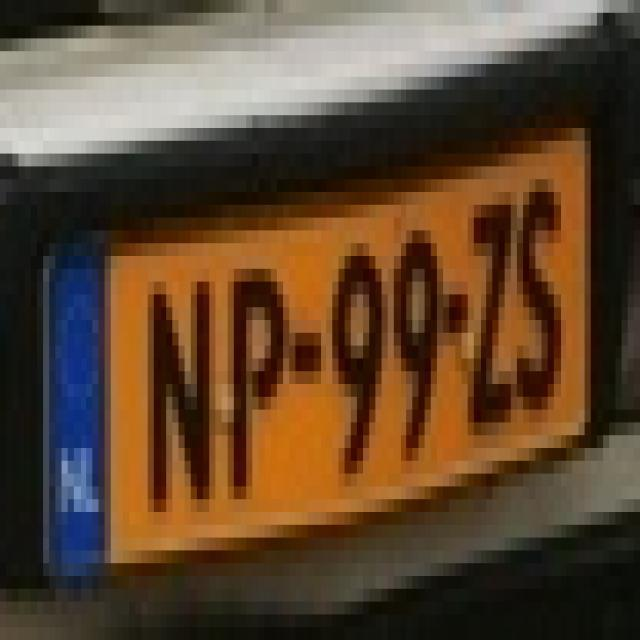LicensePlate: (39, 197, 610, 566)
